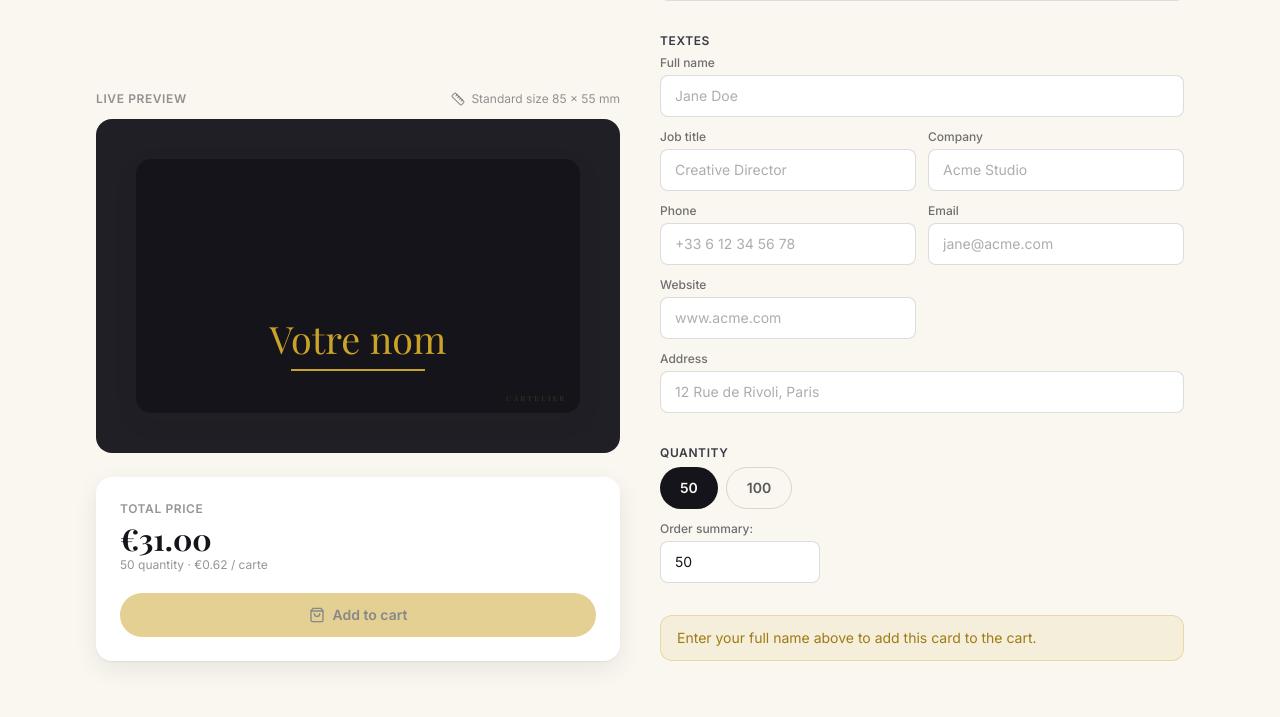
Test: Customize page › computes the price from the selected quantity tier
(page scrolled)
Expected: the text "€31.00" is shown, [120, 519, 212, 559]
Click the button "100": click(759, 488) [726, 467, 792, 509]
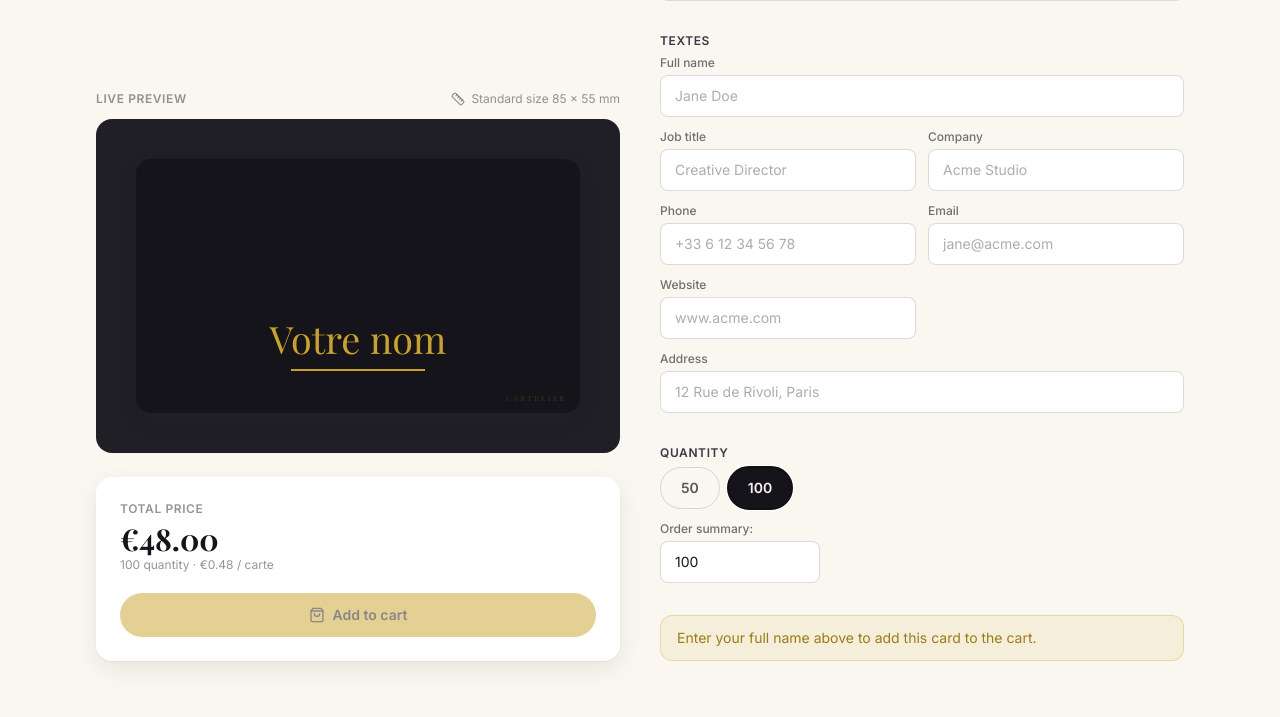
Expected: the text "€48.00" is shown, [120, 519, 219, 559]
